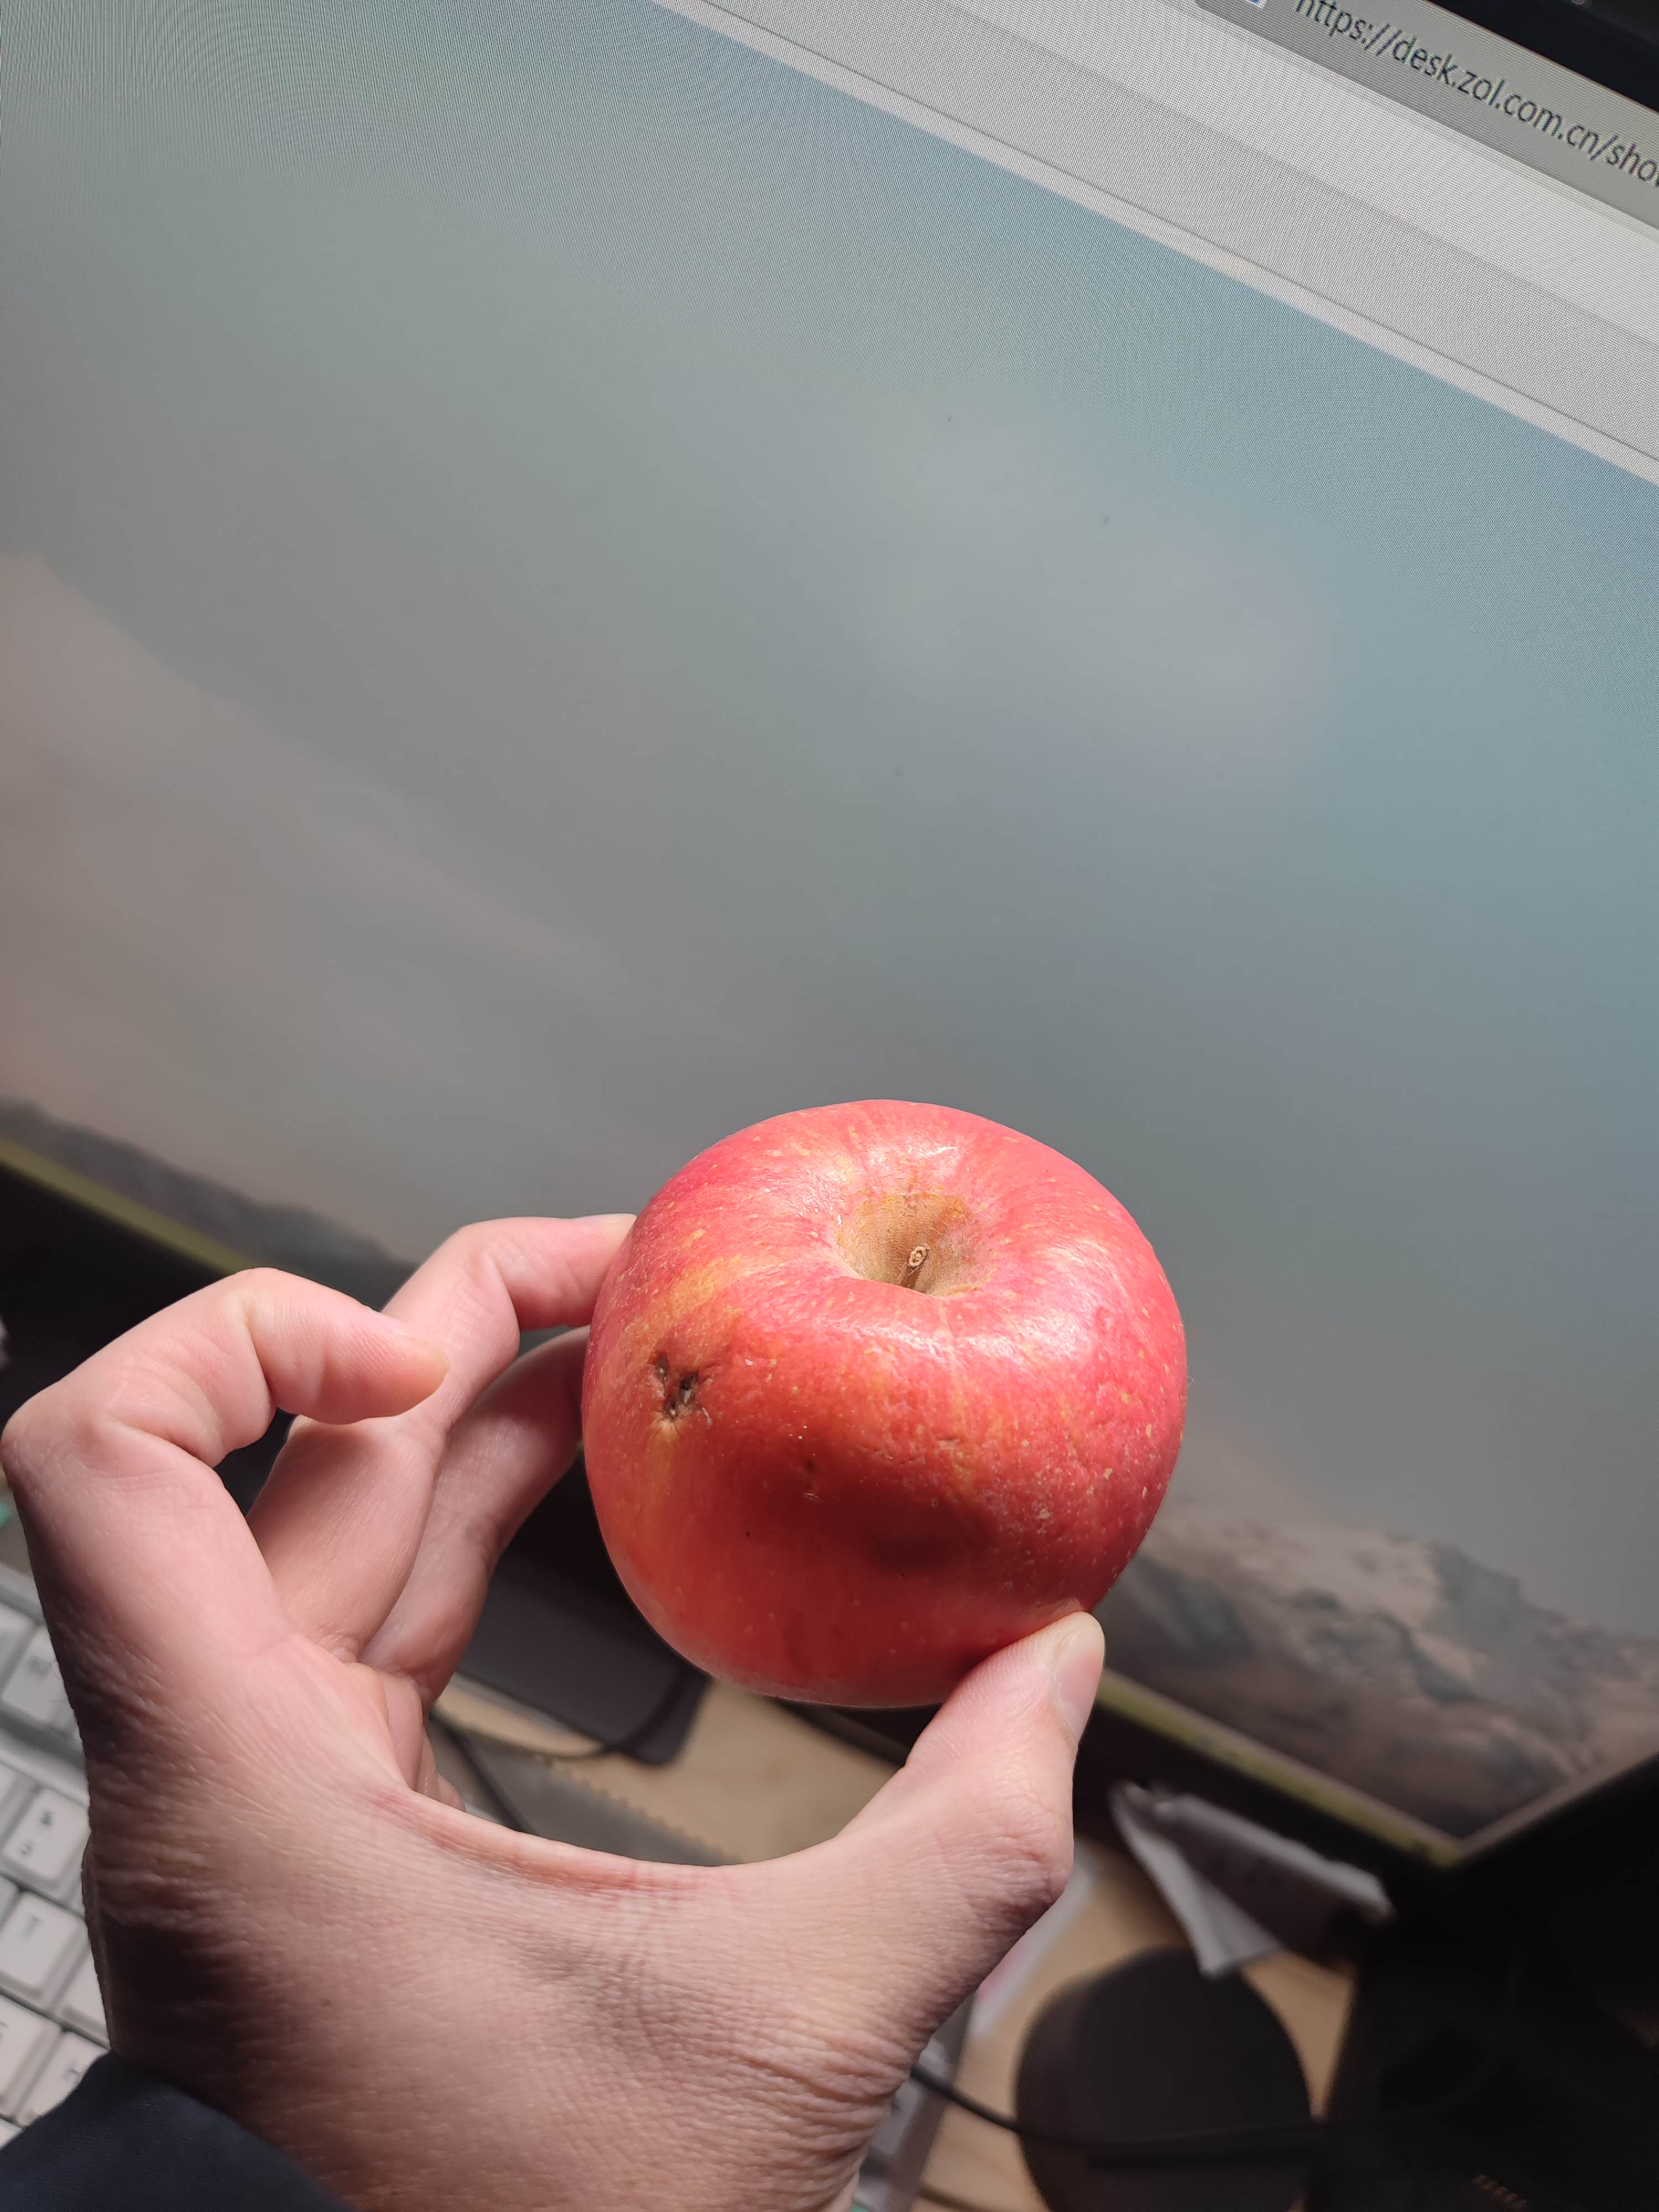apple: (566, 1083, 1204, 1726)
